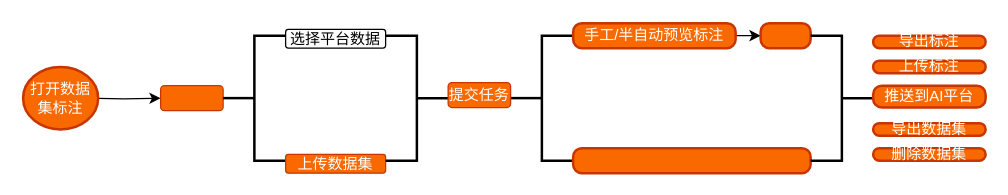
Some shapes in this 1008 by 195 pixel diagram are drawn without their labels. The centre of each missing label's shape, as x and y in pixels:
保存: pixel 785 35
创建任务: pixel 191 97
自动标注: pixel 691 160
